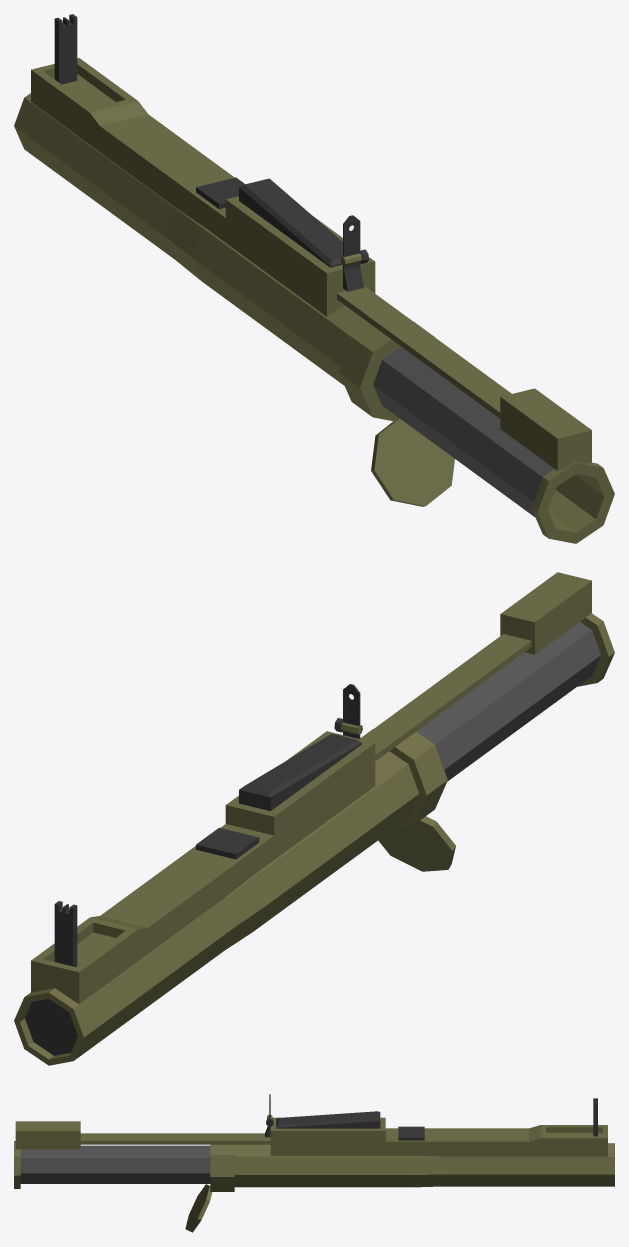
3 views of the same model, one above another, from view 1: azimuth 30°, elevation 25°; view 2: azimuth 150°, elevation 25°; view 3: azimuth 270°, elevation 25° (orthographic). The views are drawn at different scales.
Visible parts, largest first — view 1: M72, Rear, Plug, Trigger, Font_Sight, Rear_Sight; view 2: M72, Rear, Trigger, Plug, Font_Sight, Rear_Sight; view 3: M72, Rear, Trigger, Plug.
Boxes of the visible parts, bbox=[...] form: M72: bbox=[14, 58, 434, 421]; Rear: bbox=[337, 286, 614, 543]; Plug: bbox=[371, 418, 454, 506]; Trigger: bbox=[239, 178, 342, 267]; Font_Sight: bbox=[54, 14, 77, 84]; Rear_Sight: bbox=[340, 215, 368, 270]; M72: bbox=[14, 729, 447, 1065]; Rear: bbox=[360, 572, 614, 781]; Trigger: bbox=[239, 734, 361, 810]; Plug: bbox=[378, 816, 455, 871]; Font_Sight: bbox=[54, 901, 77, 966]; Rear_Sight: bbox=[334, 684, 362, 738]; M72: bbox=[210, 1117, 614, 1191]; Rear: bbox=[14, 1121, 270, 1188]; Trigger: bbox=[276, 1111, 380, 1128]; Plug: bbox=[185, 1184, 212, 1232].
Size of the model in its own units: 12.05 by 31.27 by 125.
1 material, 1 textured.
